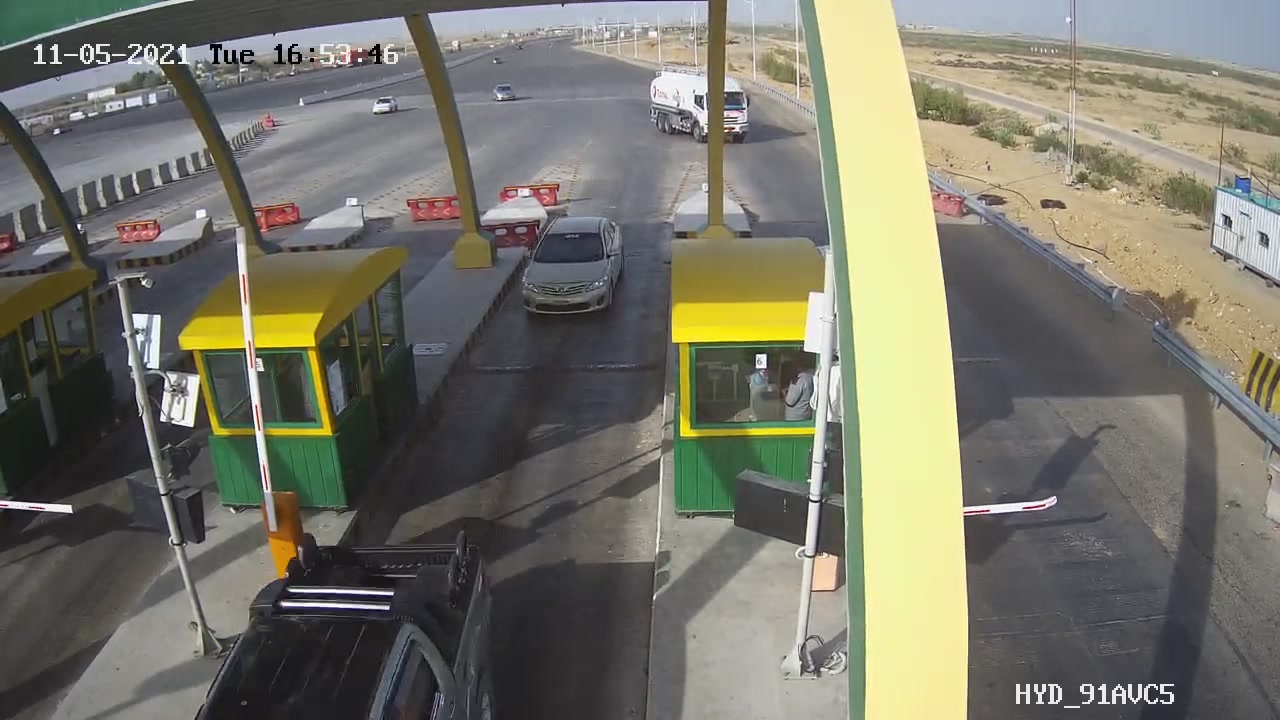F1: (506, 202, 640, 337)
